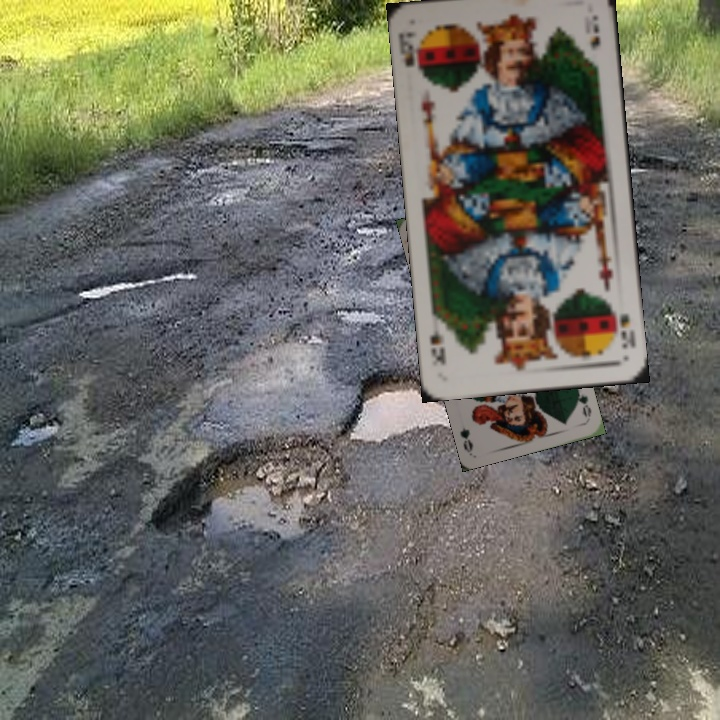GO: (572, 382, 594, 420)
SK: (396, 28, 420, 69), (616, 309, 638, 352)
